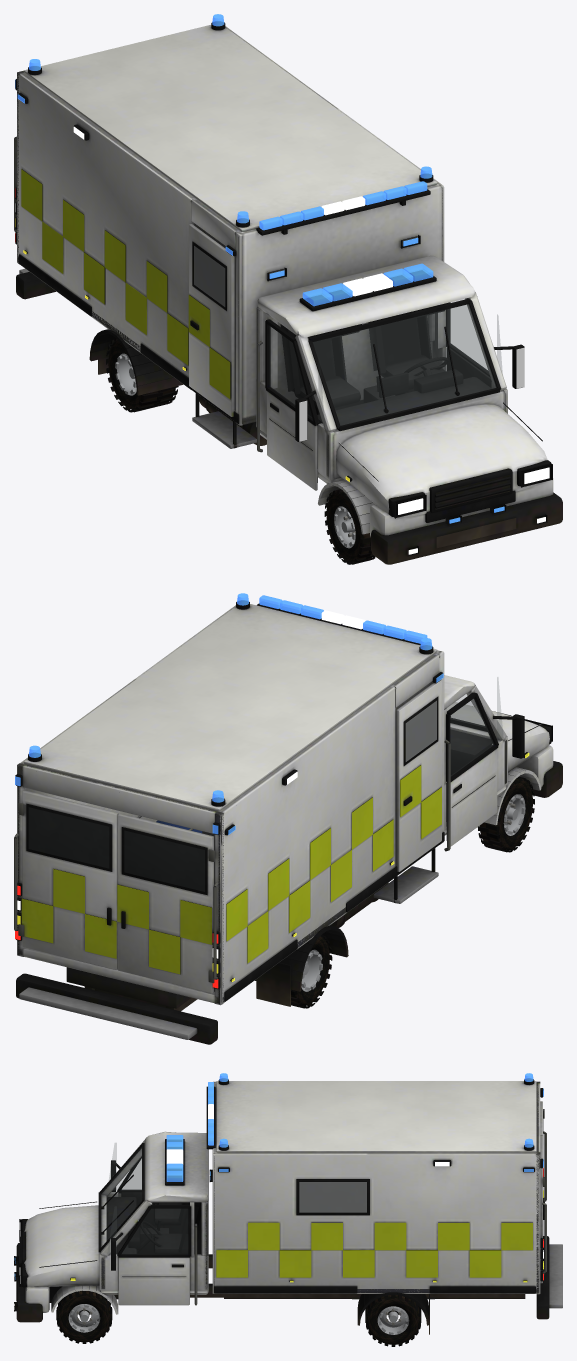
The model's file is h3-v4-ambulance.glb.
3 views of the same model, one above another, from view 1: azimuth 30°, elevation 25°; view 2: azimuth 150°, elevation 25°; view 3: azimuth 270°, elevation 25° (orthographic). The views are drawn at different scales.
Visible parts, largest first — view 1: body, fittings, door_side_mesh, door_R_mesh, wheel_FR_mesh, wheel_RR_mesh, door_R_fittings, door_L_fittings, door_side_fittings, door_L_mesh; view 2: body, door_rear_L_mesh, door_rear_R_mesh, door_side_mesh, door_R_mesh, fittings, door_rear_R_fittings, door_rear_L_fittings, wheel_FR_mesh, door_R_fittings, wheel_RR_mesh, door_side_fittings; view 3: body, fittings, door_L_mesh, wheel_FL_mesh, wheel_RL_mesh, door_L_fittings, door_R_mesh, door_rear_L_mesh.
Boxes of the visible parts, <box> form: body: <box>14,21,562,564</box>; fittings: <box>15,14,549,554</box>; door_side_mesh: <box>188,224,234,416</box>; door_R_mesh: <box>265,319,318,490</box>; wheel_FR_mesh: <box>324,489,375,564</box>; wheel_RR_mesh: <box>106,338,178,412</box>; door_R_fittings: <box>269,326,311,417</box>; door_L_fittings: <box>449,299,487,371</box>; door_side_fittings: <box>194,246,225,306</box>; door_L_mesh: <box>446,302,491,387</box>; body: <box>14,600,562,1044</box>; door_rear_L_mesh: <box>18,790,118,969</box>; door_rear_R_mesh: <box>117,813,214,993</box>; door_side_mesh: <box>396,679,441,871</box>; door_R_mesh: <box>446,692,498,846</box>; fittings: <box>15,593,529,988</box>; door_rear_R_fittings: <box>124,831,204,891</box>; door_rear_L_fittings: <box>29,807,108,867</box>; wheel_FR_mesh: <box>477,776,534,852</box>; door_R_fittings: <box>450,699,493,775</box>; wheel_RR_mesh: <box>291,934,332,1008</box>; door_side_fittings: <box>405,701,436,761</box>; body: <box>14,1078,562,1334</box>; fittings: <box>14,1073,543,1309</box>; door_L_mesh: <box>117,1205,191,1305</box>; wheel_FL_mesh: <box>56,1290,112,1343</box>; wheel_RL_mesh: <box>365,1295,421,1346</box>; door_L_fittings: <box>122,1209,187,1253</box>; door_R_mesh: <box>117,1156,178,1226</box>; door_rear_L_mesh: <box>540,1135,544,1283</box>.
Bounding box in the file's own units: 2.55 × 3.01 × 7.29.
Materials: 12 (2 with a texture image).
